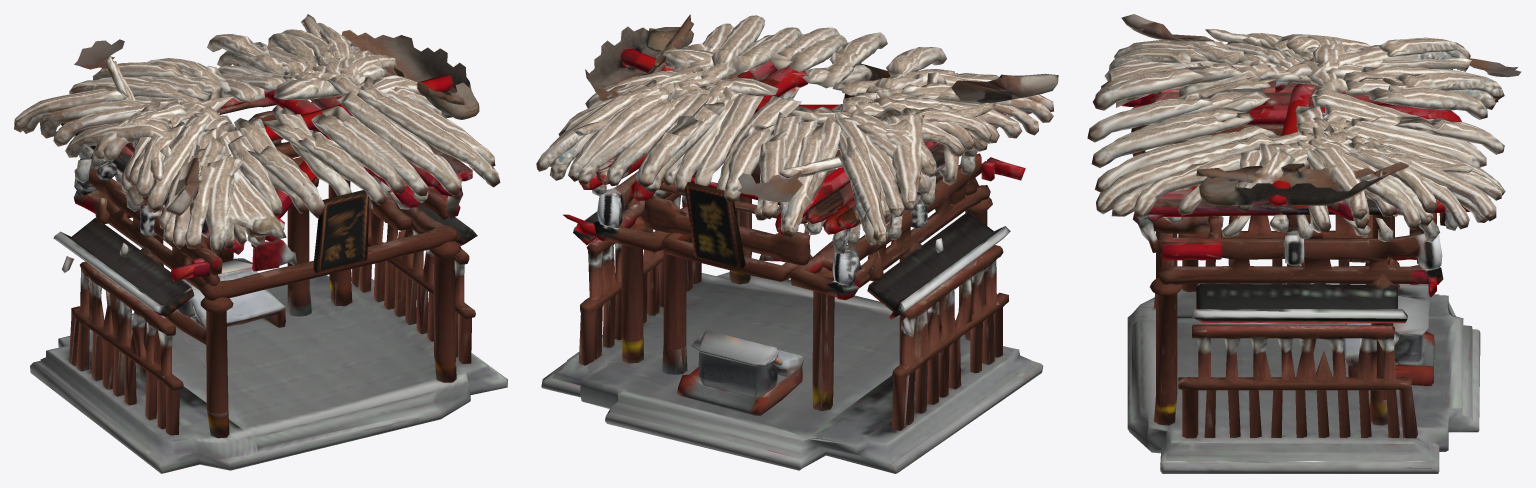
File: shinto_shrine.glb
The picture shows the model from 3 angles, left to right: view 1: azimuth 30°, elevation 25°; view 2: azimuth 150°, elevation 25°; view 3: azimuth 270°, elevation 25°; orthographic projection. The views are drawn at different scales.
Bounding box in the file's own units: 1.58 × 1.21 × 1.61.
1 material, 1 textured.
